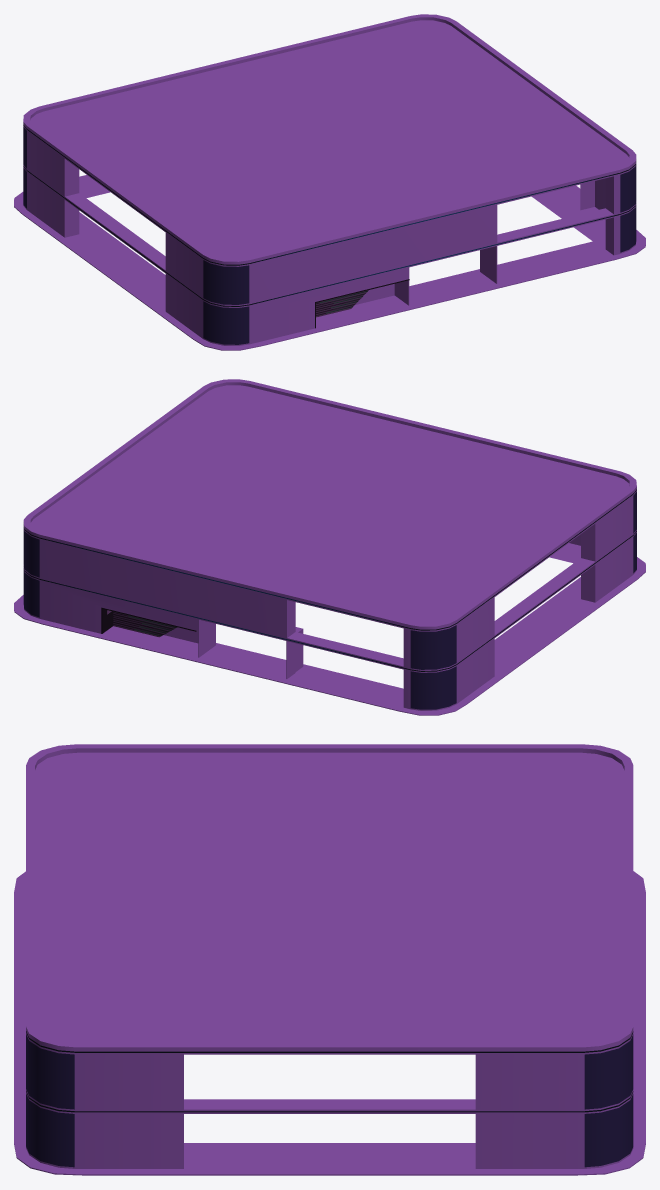
Rendered from Building_004_1st_L1.fbx.
The picture shows the model from 3 angles, top to bottom: view 1: azimuth 30°, elevation 25°; view 2: azimuth 150°, elevation 25°; view 3: azimuth 270°, elevation 25°; orthographic projection. The views are drawn at different scales.
Parts seen in each view (by area): view 1: Building_004_1st_L1; view 2: Building_004_1st_L1; view 3: Building_004_1st_L1.
Boxes of the visible parts, <box> form: Building_004_1st_L1: <box>14,14,645,350</box>; Building_004_1st_L1: <box>14,379,645,715</box>; Building_004_1st_L1: <box>14,744,645,1175</box>.
Bounding box in the file's own units: 61.06 × 11.23 × 52.04.
